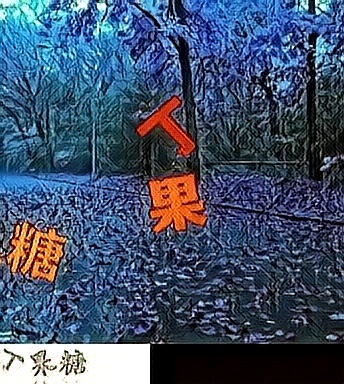B6A1: (136, 91, 199, 158)
B9FB: (145, 169, 208, 236)
CCC7: (4, 216, 67, 283)
